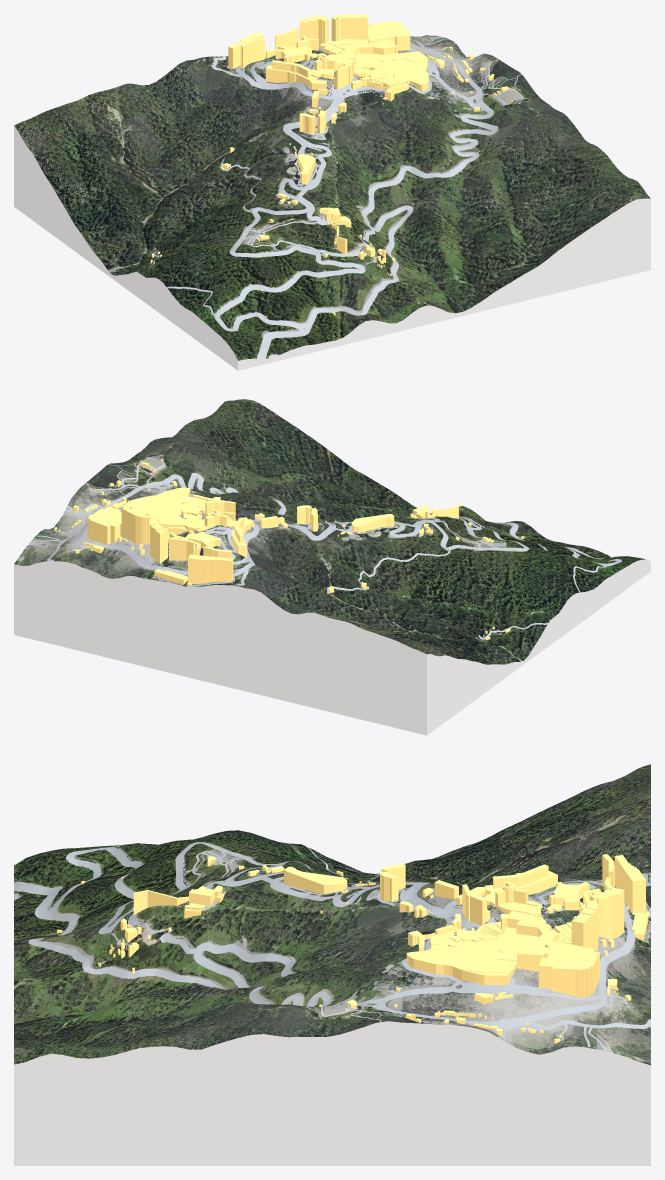
The model's file is game-scenery.glb.
3 views of the same model, one above another, from view 1: azimuth 30°, elevation 25°; view 2: azimuth 150°, elevation 25°; view 3: azimuth 270°, elevation 25° (orthographic). The views are drawn at different scales.
Parts seen in each view (by area): view 1: tinMesh, clipSide, road_collector_14, road_collector_12, road_collector_13, building_213, road_collector_22, building_ce6cbcc9-58cd-4dcd-b0b4-29d7001b5f31_part_1, building_ce6cbcc9-58cd-4dcd-b0b4-29d7001b5f31_part_2, road_bridge_1, building_154, building_9b74b550-5be4-4891-9465-810f34c1b566_part_1; view 2: tinMesh, clipSide, building_306, building_213, building_ce6cbcc9-58cd-4dcd-b0b4-29d7001b5f31_part_1, road_collector_13, building_224, road_collector_14, building_136; view 3: tinMesh, clipSide, building_213, building_ce6cbcc9-58cd-4dcd-b0b4-29d7001b5f31_part_1, road_collector_22, building_ce6cbcc9-58cd-4dcd-b0b4-29d7001b5f31_part_2, road_collector_13, road_collector_14, road_collector_12, building_306, building_224, road_bridge_1 (+6 smaller).
Part boxes in pixels (x1,y1,x2,y2): tinMesh: (14,35,650,360); clipSide: (14,126,650,370); road_collector_14: (361,101,497,229); road_collector_12: (214,252,365,331); road_collector_13: (230,124,331,257); building_213: (354,51,428,91); road_collector_22: (307,205,413,325); building_ce6cbcc9-58cd-4dcd-b0b4-29d7001b5f31_part_1: (367,21,410,50); building_ce6cbcc9-58cd-4dcd-b0b4-29d7001b5f31_part_2: (335,39,397,67); road_bridge_1: (283,84,350,225); building_154: (240,38,264,68); building_9b74b550-5be4-4891-9465-810f34c1b566_part_1: (265,65,316,85); tinMesh: (14,399,645,664); clipSide: (14,559,650,735); building_306: (188,554,233,583); building_213: (122,487,205,521); building_ce6cbcc9-58cd-4dcd-b0b4-29d7001b5f31_part_1: (87,506,121,545); road_collector_13: (302,520,529,551); building_224: (351,514,394,532); road_collector_14: (161,473,286,514); building_136: (169,537,195,560); tinMesh: (14,764,650,1065); clipSide: (14,1021,650,1165); building_213: (406,927,538,984); building_ce6cbcc9-58cd-4dcd-b0b4-29d7001b5f31_part_1: (538,940,599,997); road_collector_22: (28,914,248,989); building_ce6cbcc9-58cd-4dcd-b0b4-29d7001b5f31_part_2: (501,911,558,971); road_collector_13: (169,842,420,907); road_collector_14: (195,942,364,1006); road_collector_12: (51,847,142,934); building_306: (614,855,645,915); building_224: (284,866,347,893); road_bridge_1: (206,877,466,920).
Bounding box in the file's own units: 220 × 67.27 × 207.
11 materials, 1 textured.
